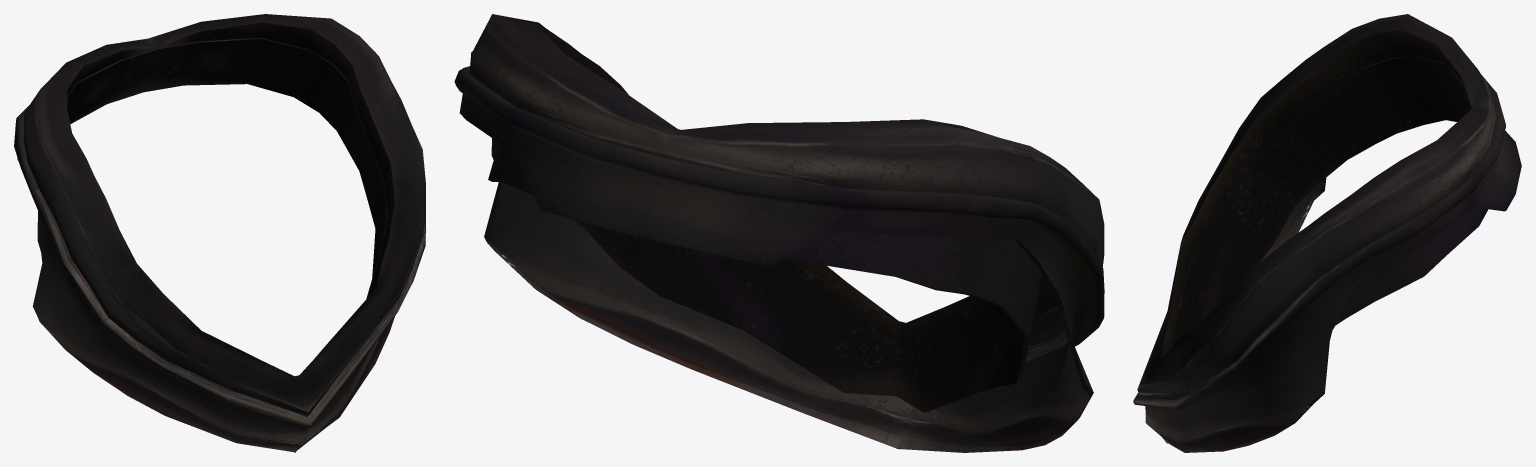
File: sm_dwarf_scortched_chest_add.gltf
The picture shows the model from 3 angles, left to right: view 1: azimuth 30°, elevation 25°; view 2: azimuth 150°, elevation 25°; view 3: azimuth 270°, elevation 25°; orthographic projection. The views are drawn at different scales.
Visible parts, largest first — view 1: sm_dwarf_scortched_chesst_add; view 2: sm_dwarf_scortched_chesst_add; view 3: sm_dwarf_scortched_chesst_add.
Part boxes in pixels (<box>): sm_dwarf_scortched_chesst_add: <box>14,14,425,452</box>; sm_dwarf_scortched_chesst_add: <box>454,14,1104,452</box>; sm_dwarf_scortched_chesst_add: <box>1133,14,1521,452</box>.
Size of the model in its own units: 31.16 by 24.97 by 24.97.
1 material, 1 textured.
